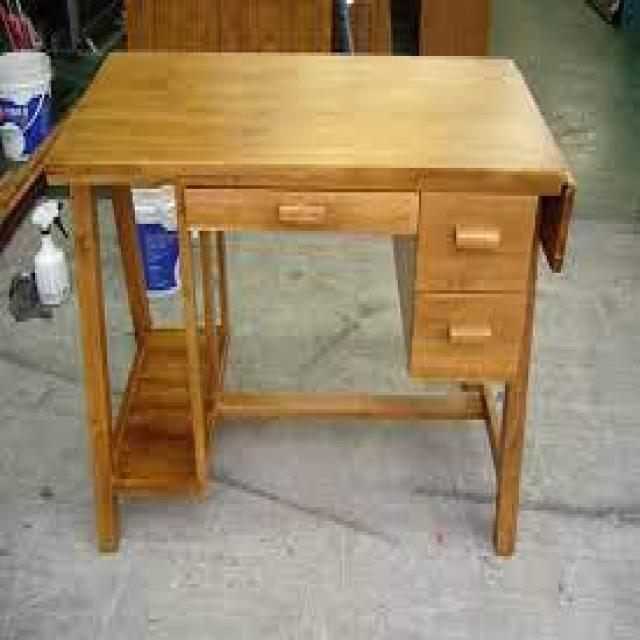table: (48, 26, 583, 579)
